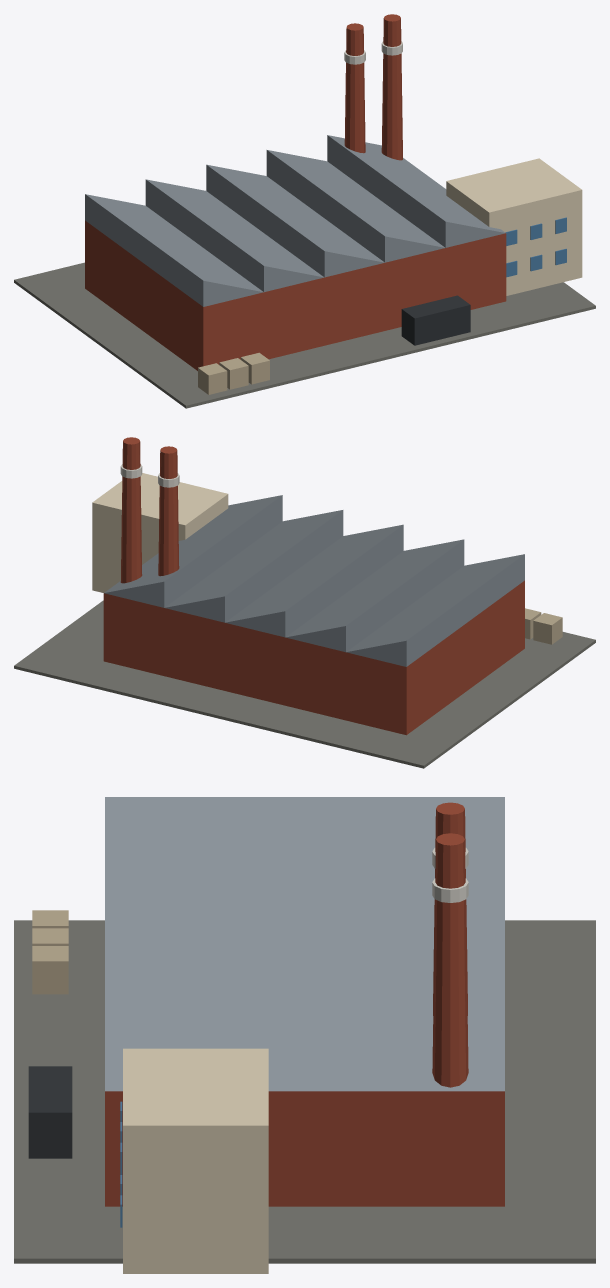
Rendered from civil.glb.
3 renders of one model, top to bottom at view 1: azimuth 30°, elevation 25°; view 2: azimuth 150°, elevation 25°; view 3: azimuth 270°, elevation 25°, orthographic. The views are drawn at different scales.
Parts seen in each view (by area): view 1: civil; view 2: civil; view 3: civil.
Boxes of the visible parts, box(x1,y1,x2,y2) form: civil: box(14, 14, 595, 408); civil: box(14, 437, 595, 768); civil: box(14, 797, 595, 1273).
Size of the model in its own units: 46 by 22 by 32.
